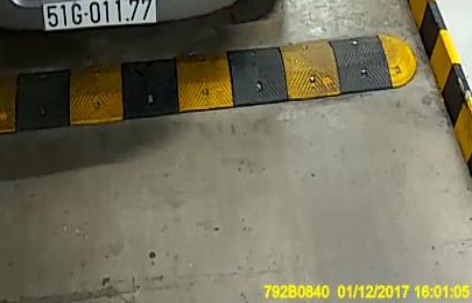plate: (41, 1, 160, 34)
